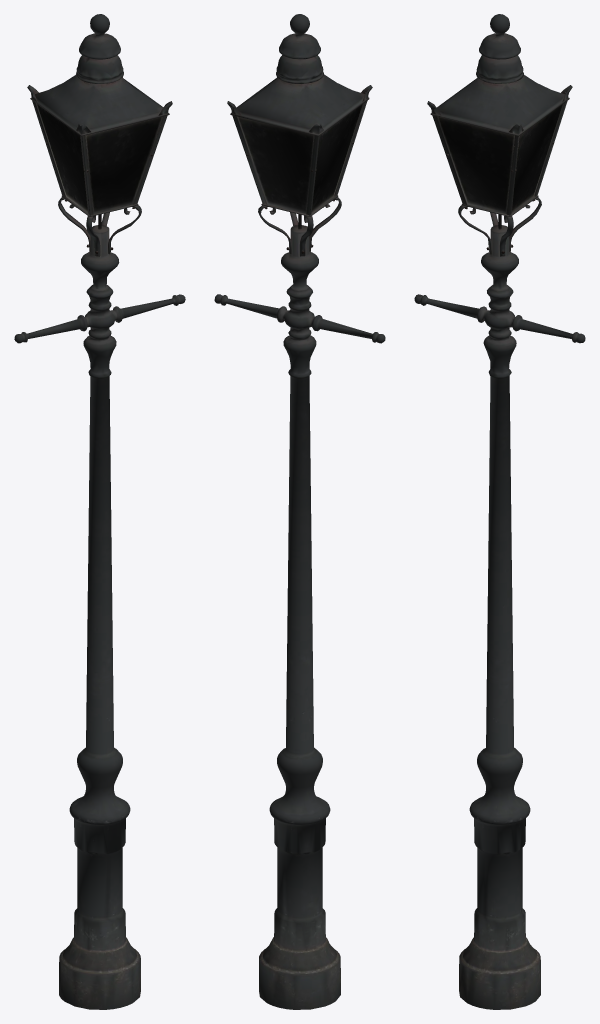
The model's file is street-lamp.glb.
3 views of the same model, side by side, from view 1: azimuth 30°, elevation 25°; view 2: azimuth 150°, elevation 25°; view 3: azimuth 330°, elevation 25° (orthographic).
Parts seen in each view (by area): view 1: street_lamp_01; view 2: street_lamp_01; view 3: street_lamp_01.
Boxes of the visible parts, bbox=[...] form: street_lamp_01: bbox=[14, 14, 185, 1009]; street_lamp_01: bbox=[214, 14, 385, 1009]; street_lamp_01: bbox=[414, 14, 585, 1009].
Bounding box in the file's own units: 0.7029 × 3.87 × 0.386.
2 materials, 2 textured.
